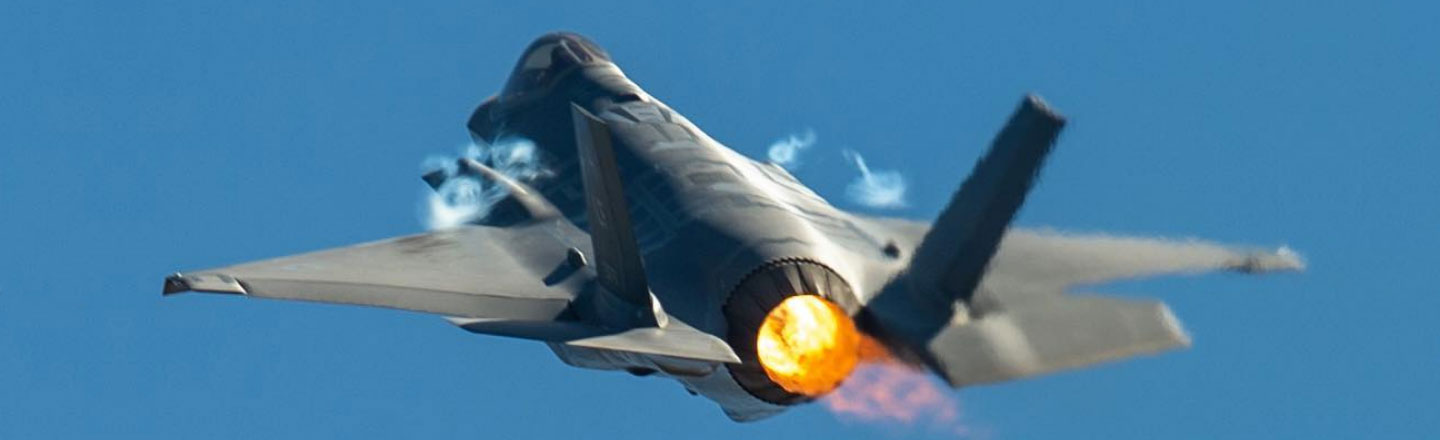F-35 Lightning: (125, 14, 1320, 426)
